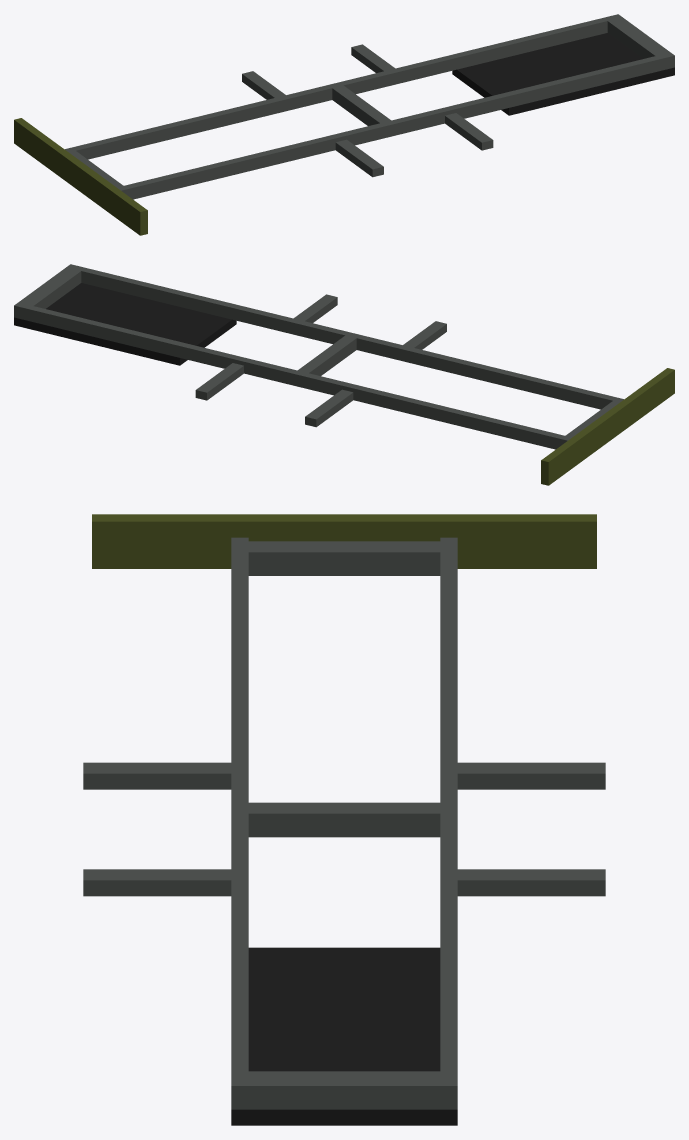
The model's file is utility_4x4_frame.glb.
3 views of the same model, one above another, from view 1: azimuth 30°, elevation 25°; view 2: azimuth 150°, elevation 25°; view 3: azimuth 270°, elevation 25° (orthographic). The views are drawn at different scales.
Parts seen in each view (by area): view 1: body:compound; view 2: body:compound; view 3: body:compound.
Part boxes in pixels (box(x1,y1,x2,y2)): body:compound: box(14, 14, 674, 235); body:compound: box(14, 264, 674, 485); body:compound: box(83, 514, 605, 1125).
Bounding box in the file's own units: 4.72 × 0.2188 × 1.88.
